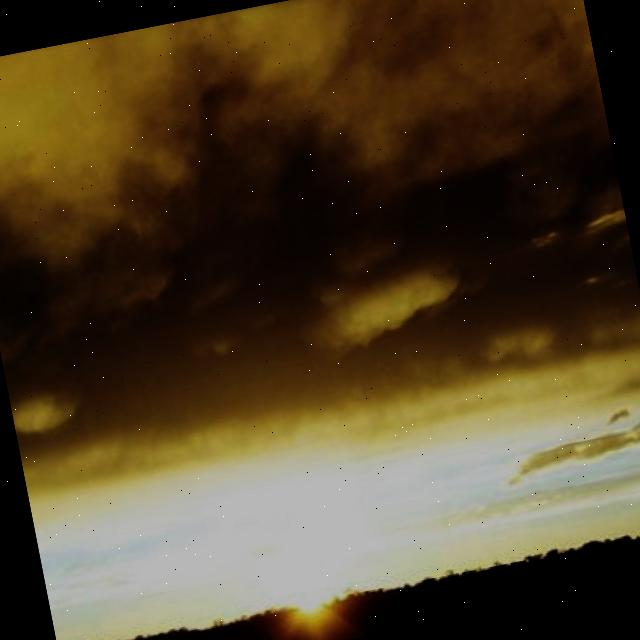As: (1, 1, 640, 594)
